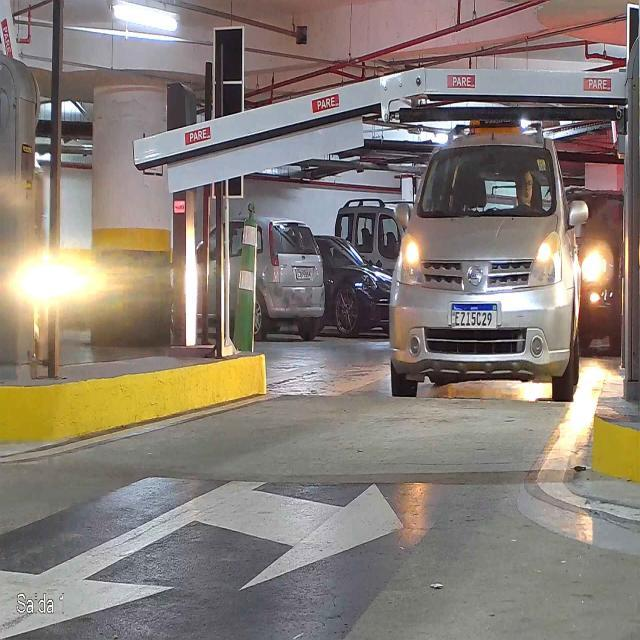mercosul_plate: (449, 302, 500, 331)
